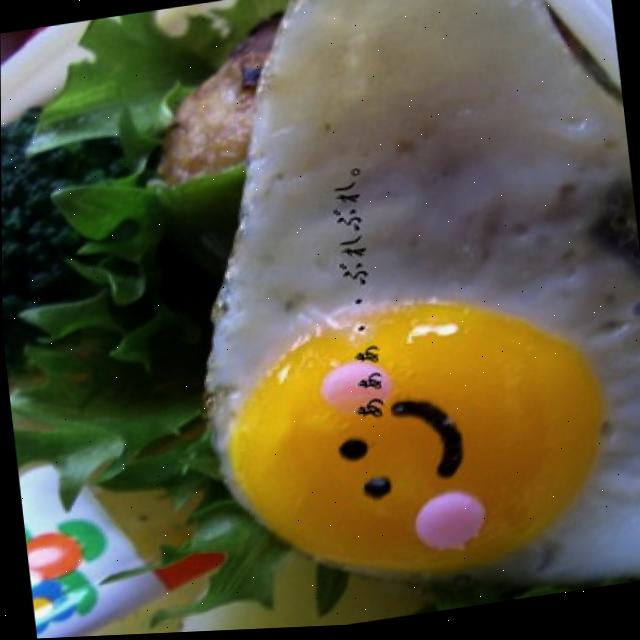鸡蛋料理: (158, 0, 640, 634)
